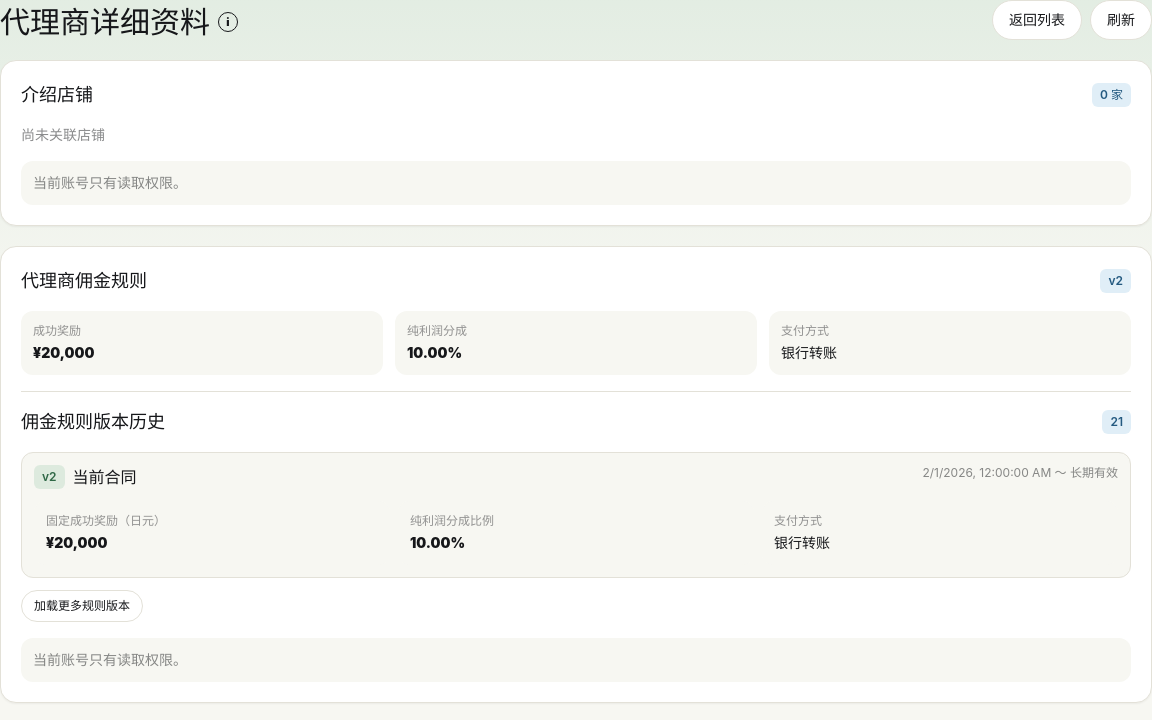
Test: AgentsPage formal interactions › ignores a stale history response after a full rule refresh
Click the button "加载更多规则版本" at [82, 606], box [21, 590, 143, 622]
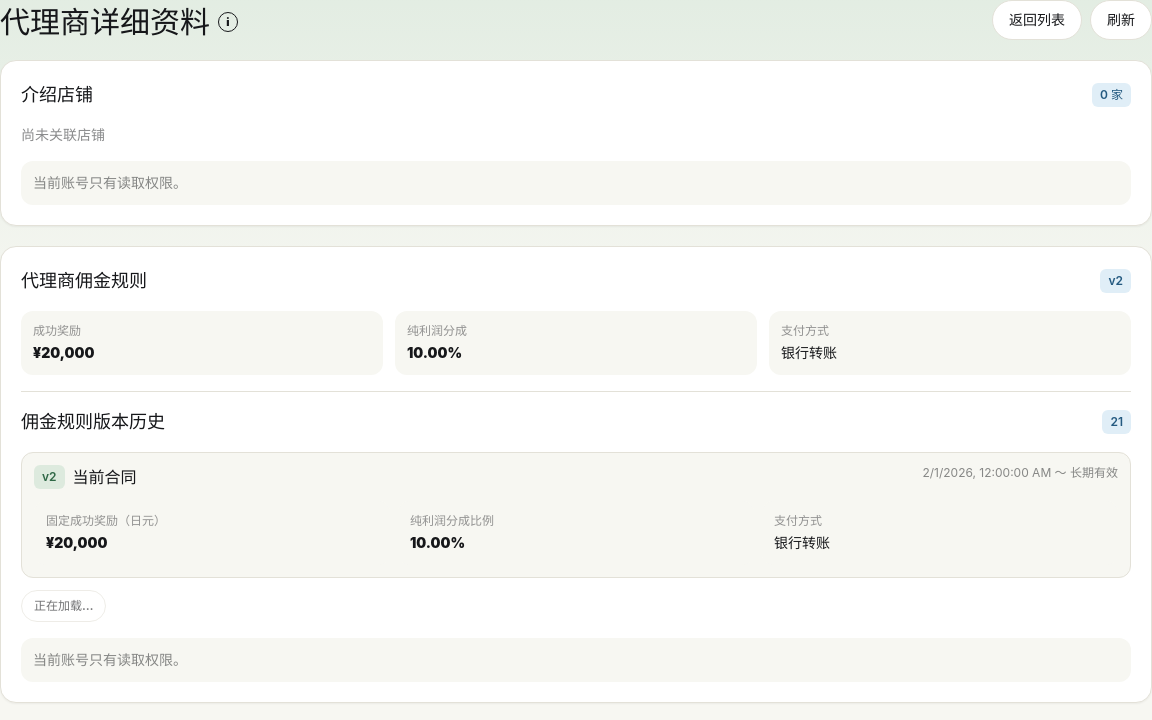
Click the button "刷新" at [1121, 20], box [1090, 0, 1151, 40]
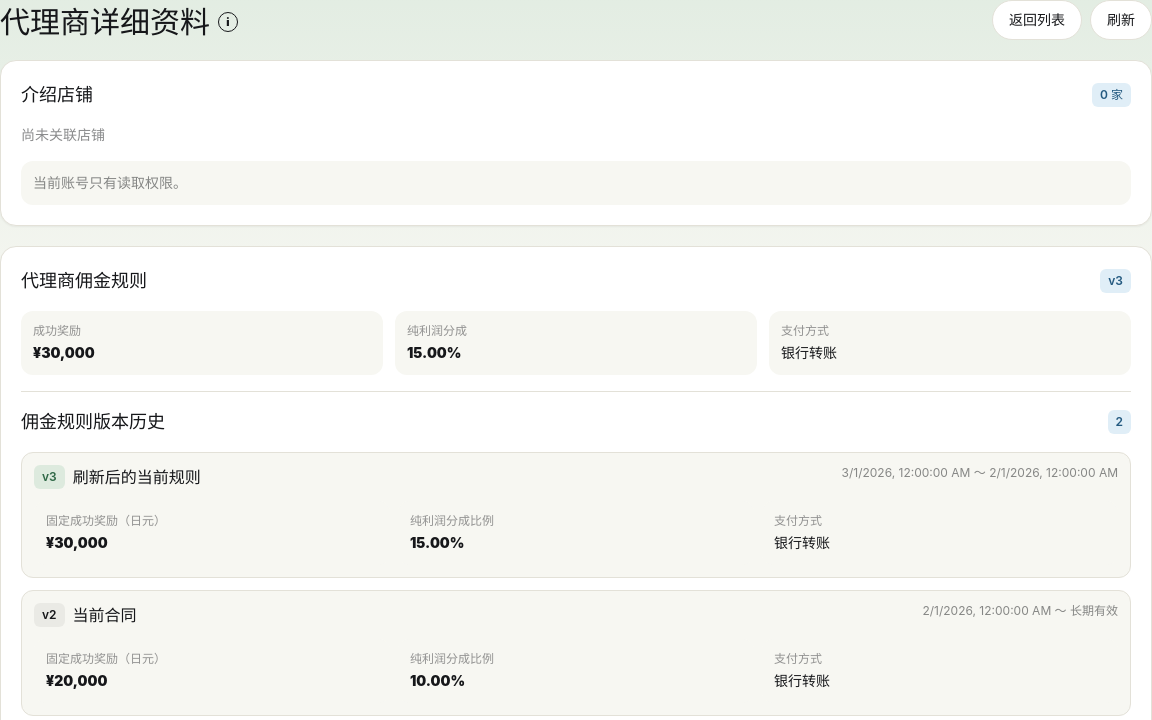
Result: the text "刷新后的当前规则" is shown at [73, 465, 201, 489]
